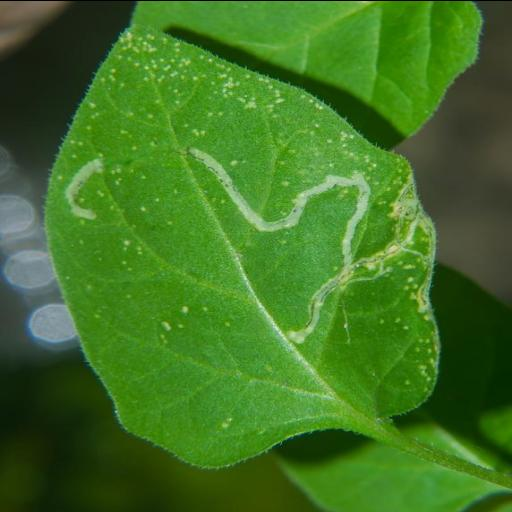Leaf Miner: (38, 22, 442, 466)
